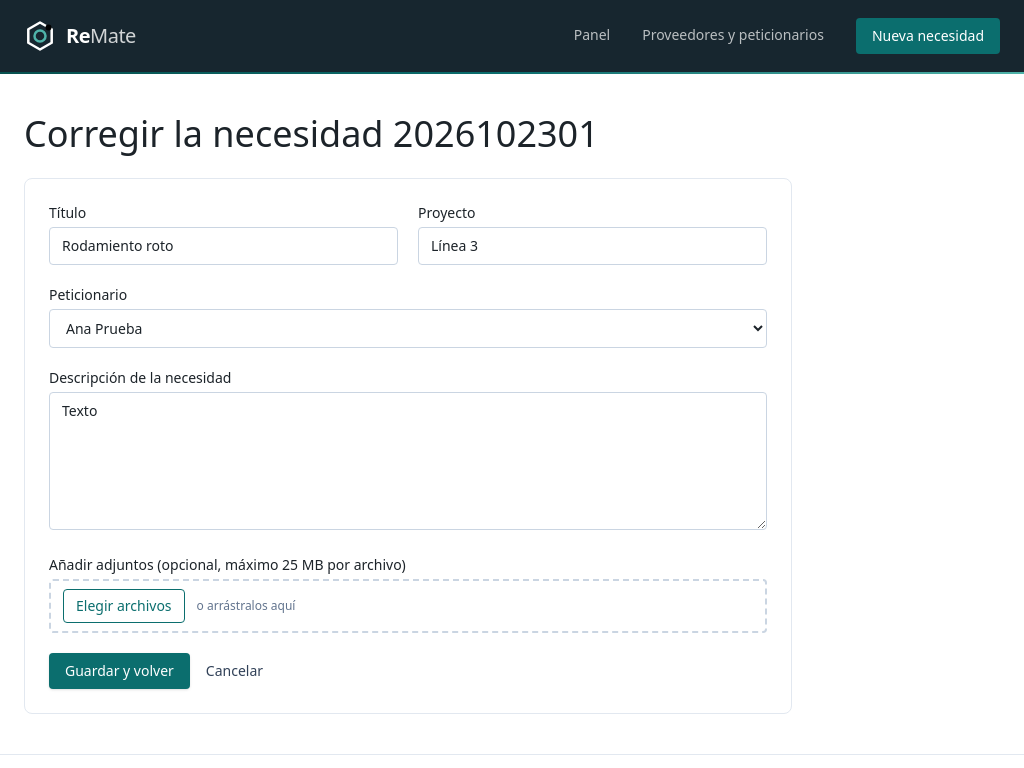
Scenario: Corregir → Nueva necesidad › al pasar a «Nueva necesidad» el formulario empieza vacío
Expected: the field labelled "Título" holds "Rodamiento roto", [49,227,398,265]
Click the link "Nueva necesidad" at coordinates (928, 36), box [856,18,1000,54]
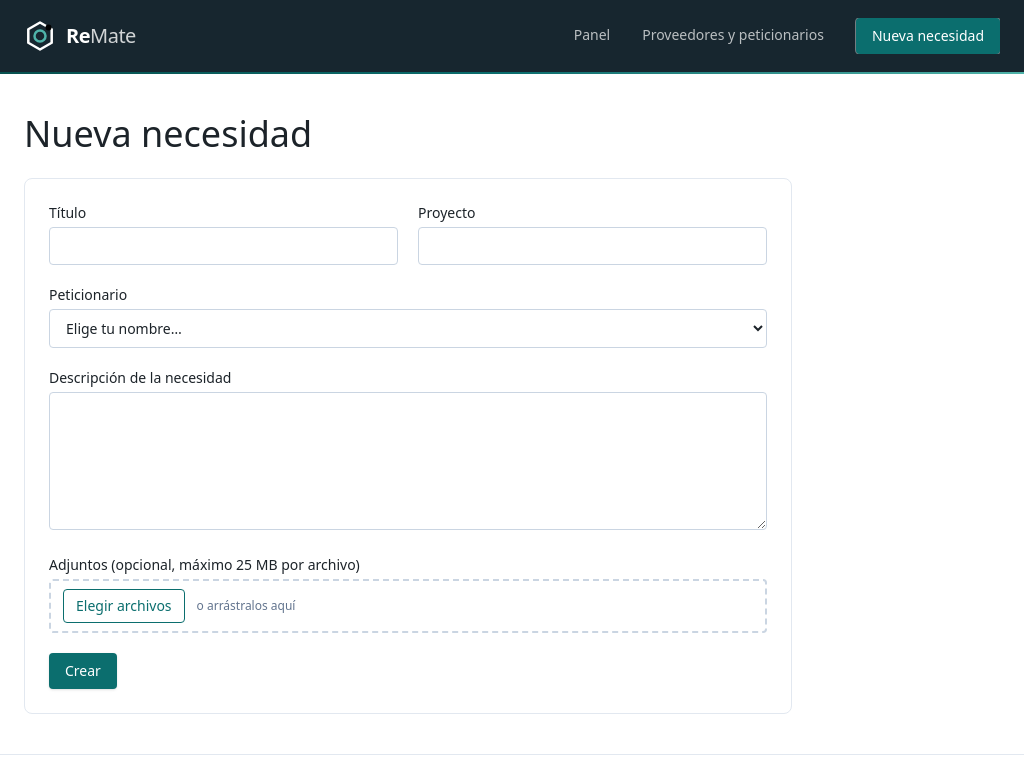
Now the heading "Nueva necesidad" is shown, box [24,109,312,158]
Now the field labelled "Título" is empty, box [49,227,398,265]
